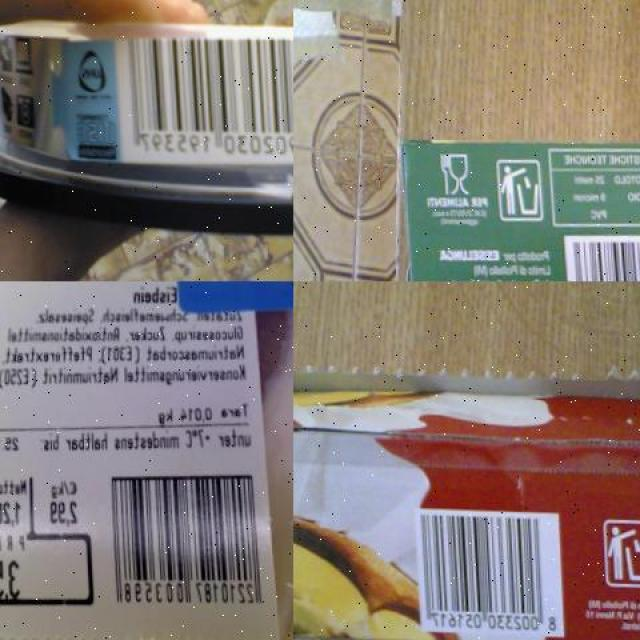Barcode: (91, 454, 268, 626), (111, 17, 293, 164), (410, 503, 561, 633), (560, 226, 640, 282)
